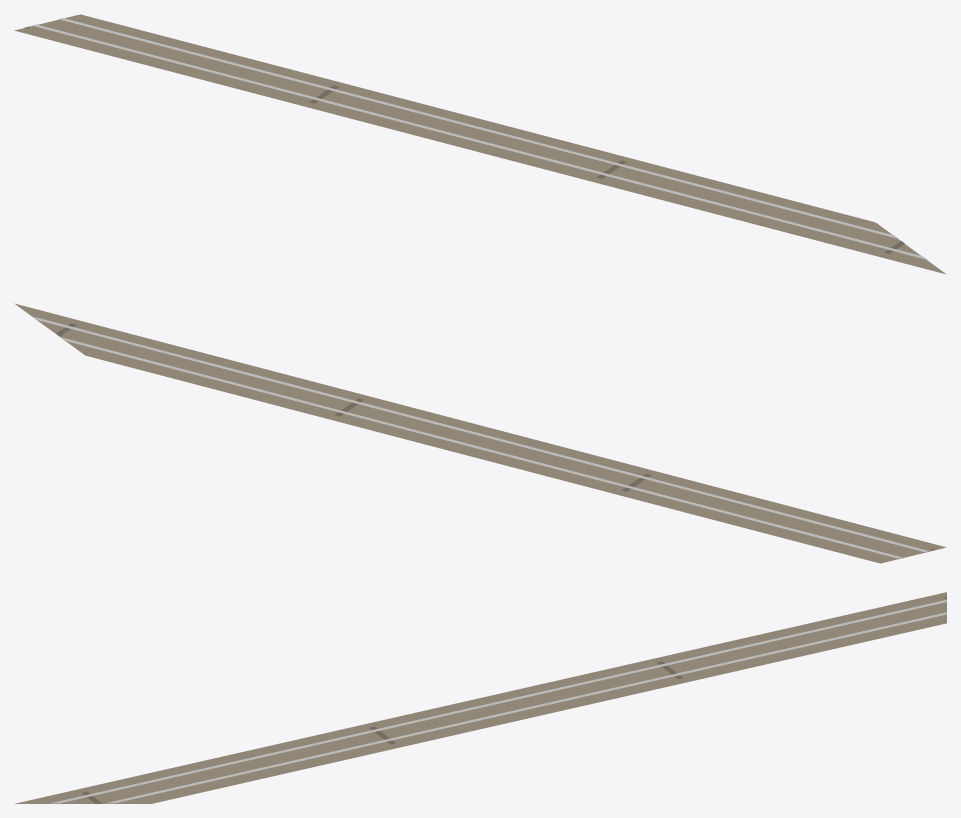
3 views of the same model, one above another, from view 1: azimuth 30°, elevation 25°; view 2: azimuth 210°, elevation 25°; view 3: azimuth 270°, elevation 25° (orthographic). The views are drawn at different scales.
Parts seen in each view (by area): view 1: rail; view 2: rail; view 3: rail.
Part boxes in pixels (x1,y1,x2,y2): rail: [14, 14, 946, 274]; rail: [14, 303, 946, 563]; rail: [14, 592, 946, 803].
Size of the model in its own units: 27.66 by 0.04 by 51.49.
